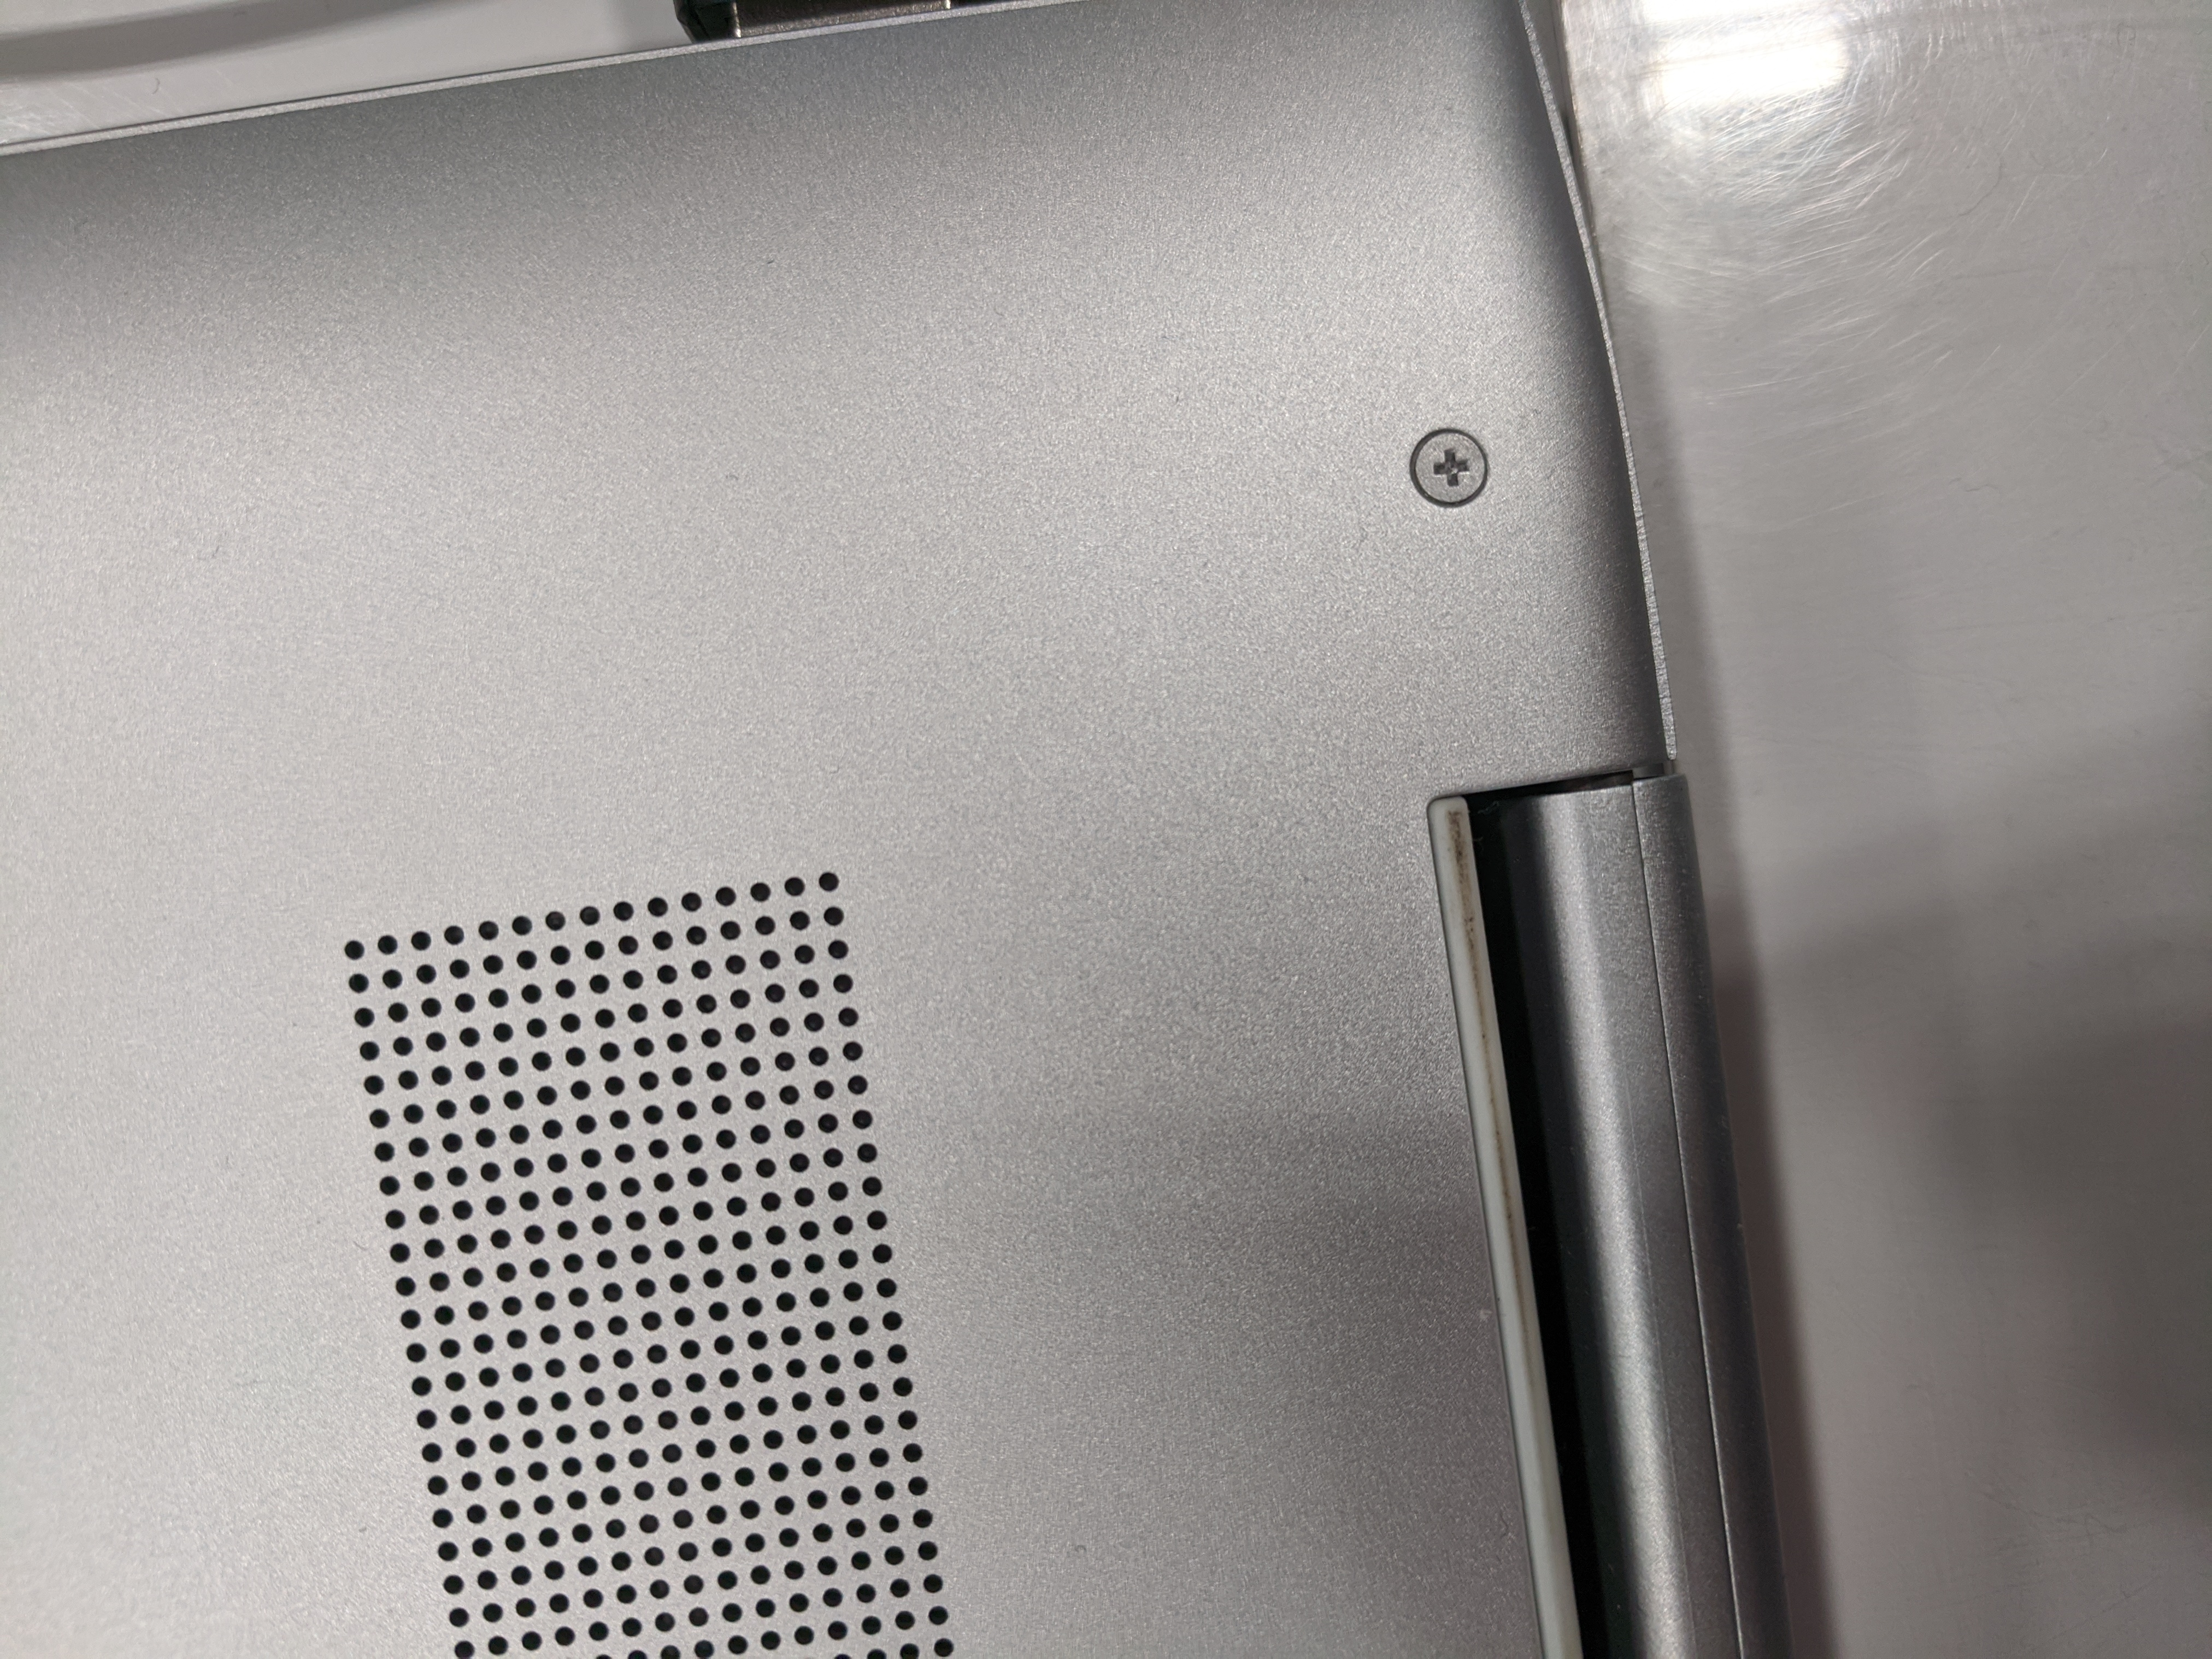cross_recessed_screw: (1400, 416, 1508, 509)
